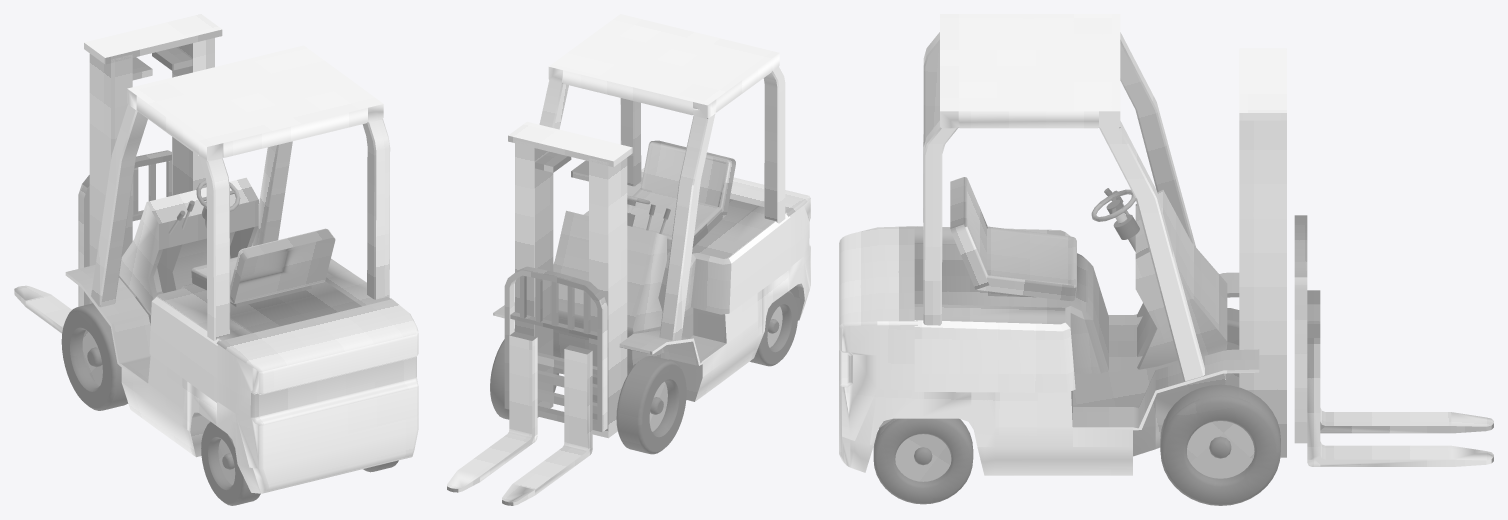
Rendered from Forklift.glb.
3 views of the same model, side by side, from view 1: azimuth 30°, elevation 25°; view 2: azimuth 150°, elevation 25°; view 3: azimuth 270°, elevation 25° (orthographic). The views are drawn at different scales.
Visible parts, largest first — view 1: Forklift; view 2: Forklift; view 3: Forklift.
Part boxes in pixels (bbox=[...]): Forklift: bbox=[14, 14, 418, 505]; Forklift: bbox=[447, 14, 810, 505]; Forklift: bbox=[839, 14, 1493, 505].
Size of the model in its own units: 1.36 by 2.57 by 3.82.
Materials: 1 (1 with a texture image).
